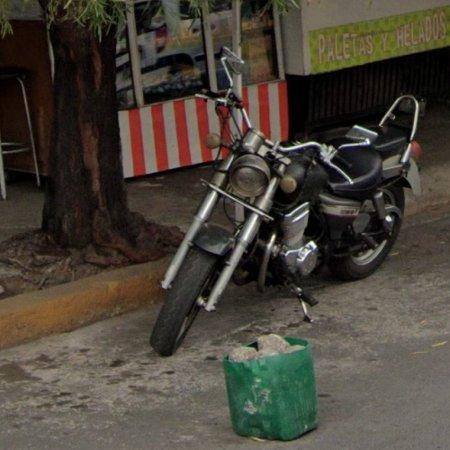motorcycles: (151, 48, 421, 356)
